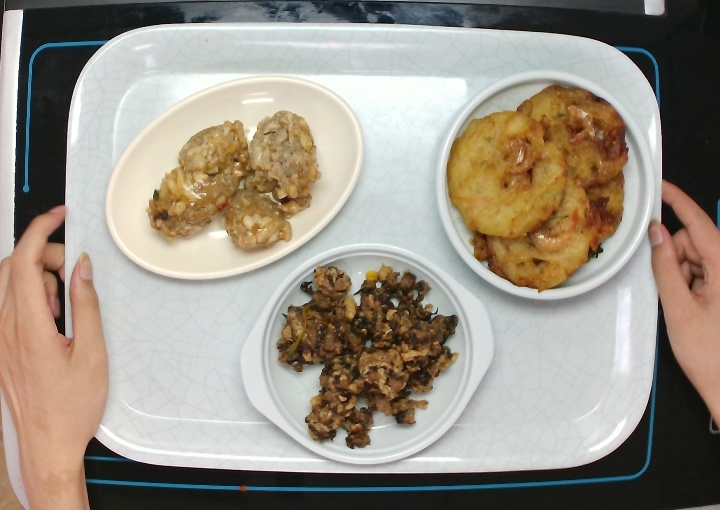JYsf-Shuang_Er_Pan: (240, 239, 498, 466)
JYsf-Tuo_Yuan_Wan: (102, 71, 365, 286)
JYsf-Xiao_Yuan_Pan: (436, 68, 657, 302)
